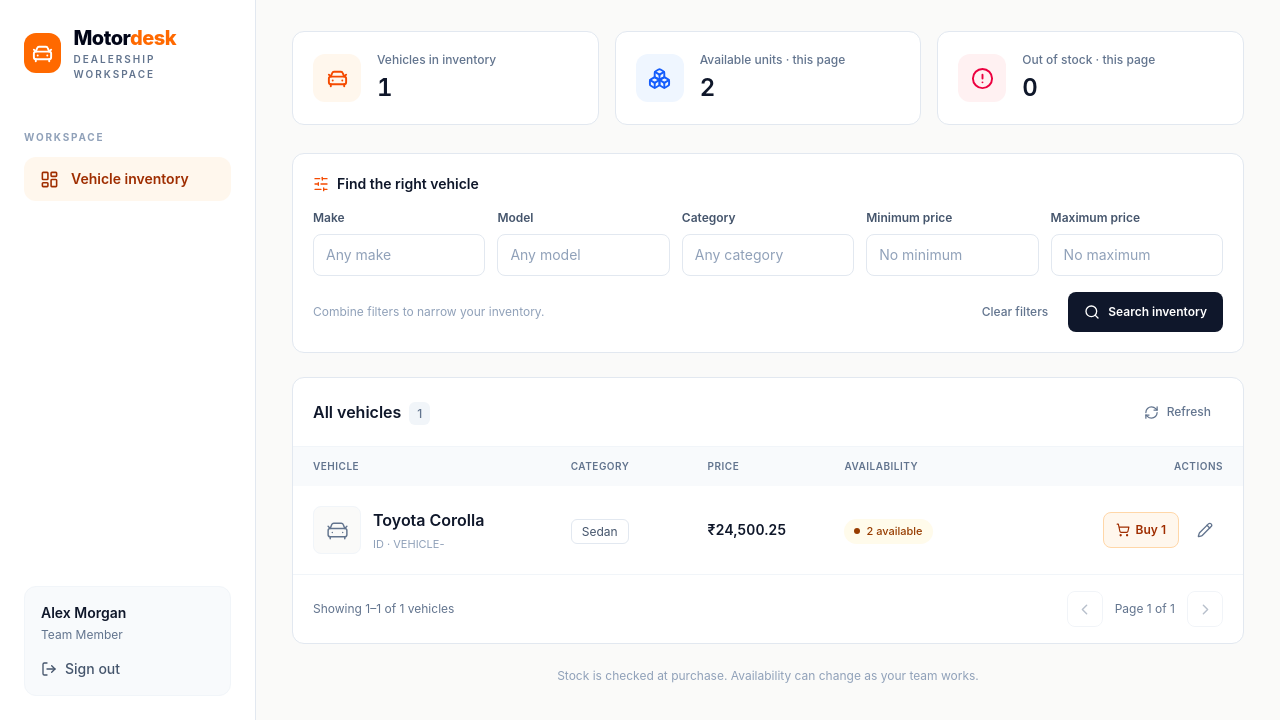
reports concurrent stock conflicts and refreshes without going negative
(page scrolled)
Expected: the heading "Toyota Corolla" is shown, [373,508,484,532]
Click the button with aria-label "Purchase Toyota Corolla": (1141,530) [1103,512,1179,548]
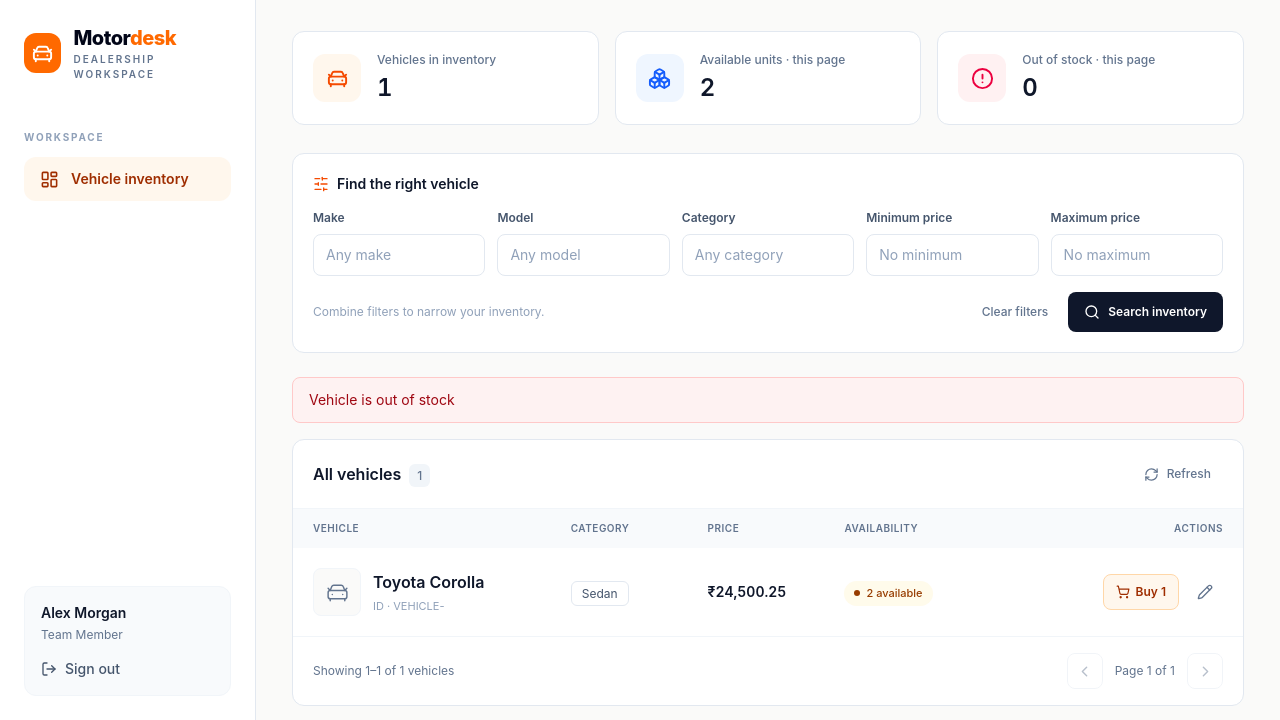
Result: the message reads "Vehicle is out of stock" at [309,391,455,408]
